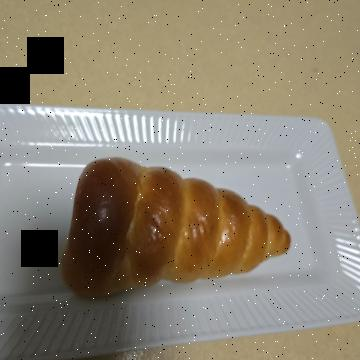cream horn: (145, 50, 321, 308)
